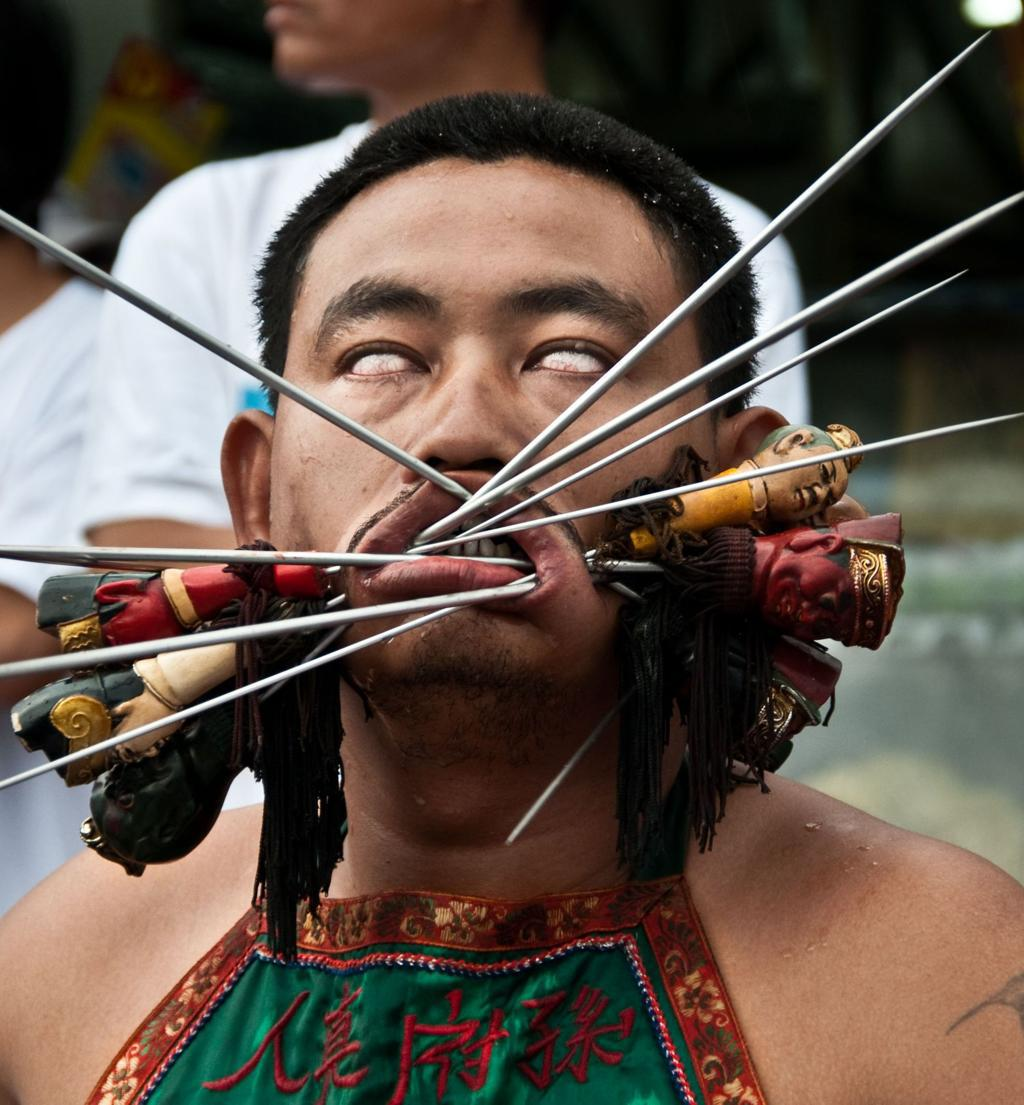face: (273, 143, 728, 704)
